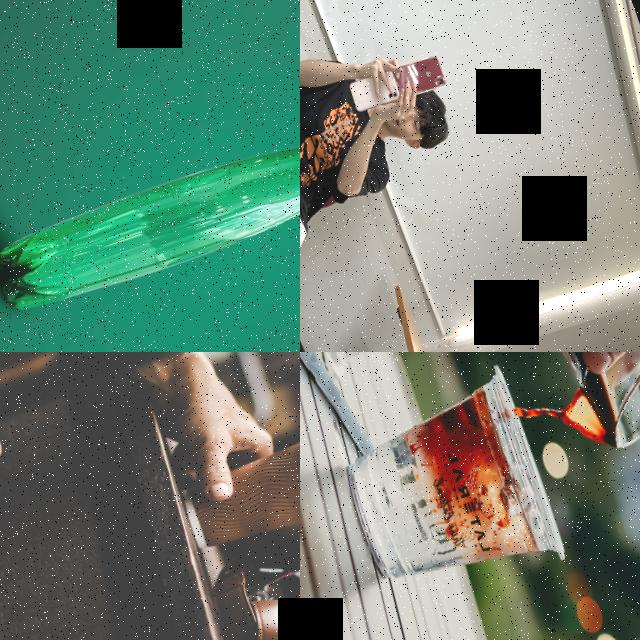bottle: (0, 69, 300, 323)
cup: (326, 366, 572, 624), (174, 424, 300, 564)
